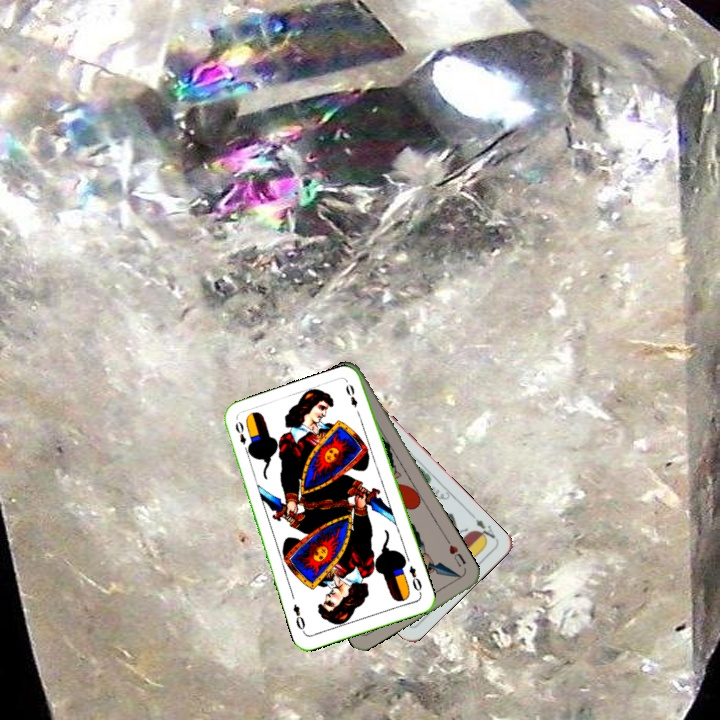EA: (467, 510, 499, 545)
EO: (231, 418, 253, 456), (405, 561, 425, 594)
HU: (443, 536, 468, 570)
